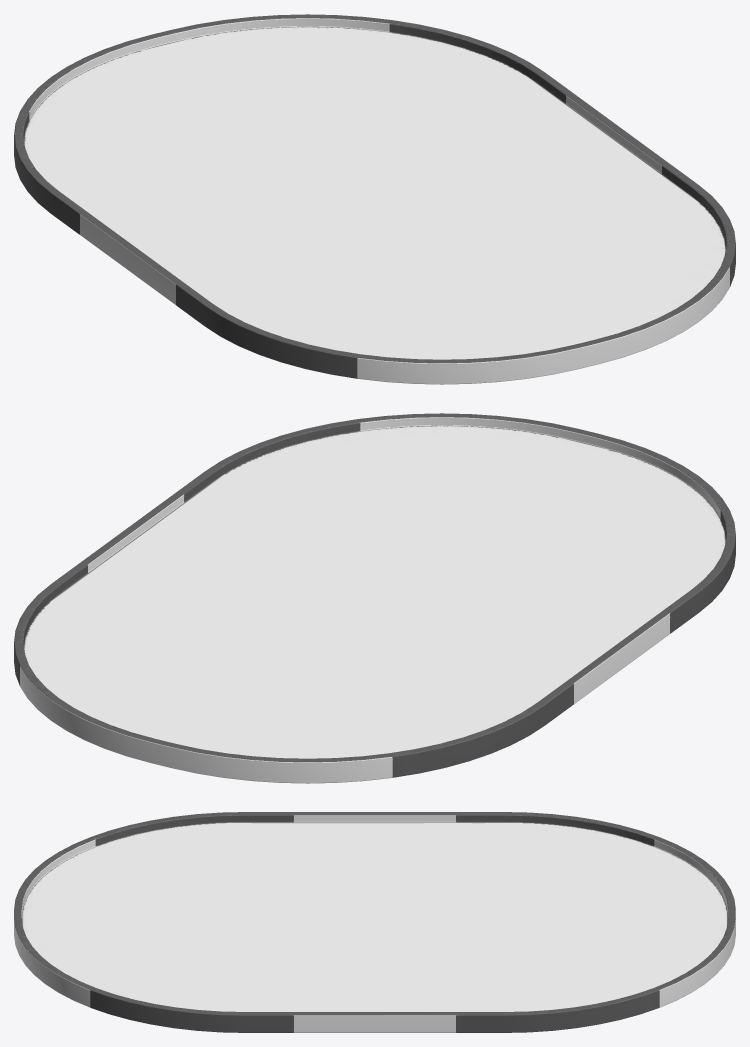
Rendered from mirror.glb.
3 renders of one model, top to bottom at view 1: azimuth 30°, elevation 25°; view 2: azimuth 150°, elevation 25°; view 3: azimuth 270°, elevation 25°, orthographic. The views are drawn at different scales.
Parts seen in each view (by area): view 1: Simple Modern Wall Mirror (Lesser Poly); view 2: Simple Modern Wall Mirror (Lesser Poly); view 3: Simple Modern Wall Mirror (Lesser Poly).
Part boxes in pixels (x1=…): Simple Modern Wall Mirror (Lesser Poly): x1=14, y1=14, x2=735, y2=384; Simple Modern Wall Mirror (Lesser Poly): x1=14, y1=413, x2=735, y2=783; Simple Modern Wall Mirror (Lesser Poly): x1=14, y1=812, x2=735, y2=1032.
Size of the model in its own units: 0.6 by 0.025 by 0.9.
Materials: 1 (1 with a texture image).
